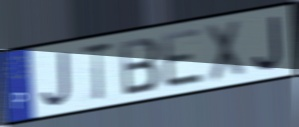B: (118, 35, 161, 98)
E: (159, 26, 206, 91)
J: (40, 49, 72, 108), (252, 13, 284, 72)
T: (78, 40, 114, 104)
X: (204, 17, 247, 86)
